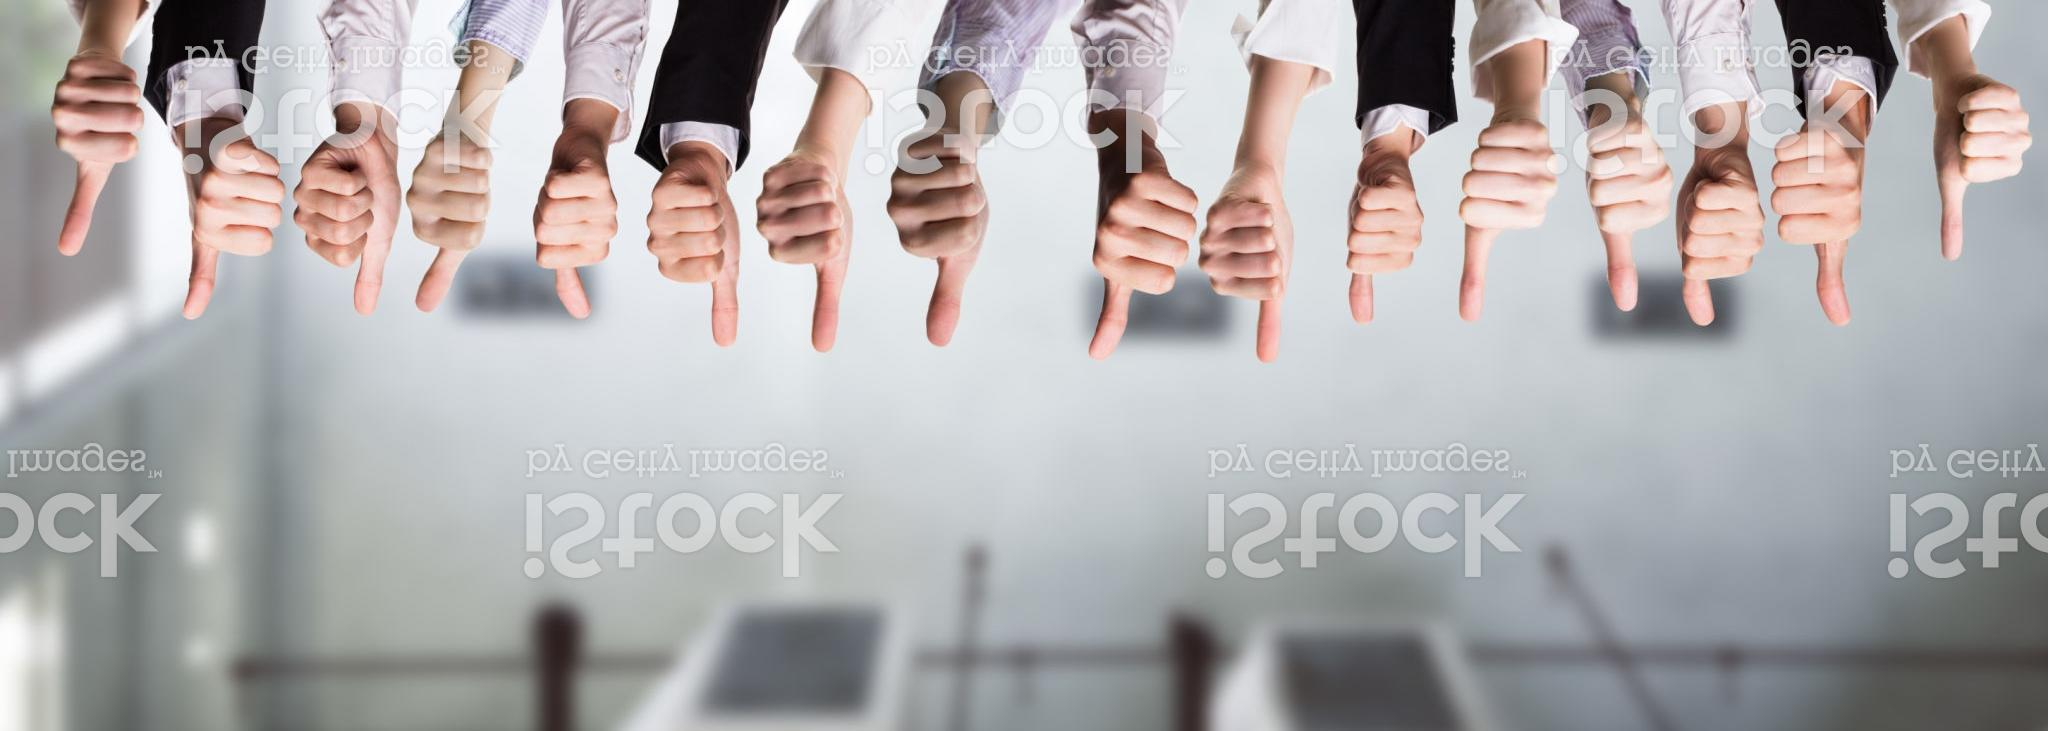thumbsdown: (886, 128, 993, 349), (1085, 161, 1202, 362), (1452, 117, 1558, 325), (751, 151, 856, 356), (1192, 166, 1298, 365), (289, 137, 402, 319), (47, 52, 146, 257), (1929, 74, 2035, 262), (1768, 125, 1865, 329), (179, 148, 287, 322), (644, 162, 743, 349), (1580, 119, 1674, 315), (404, 136, 496, 315), (1672, 151, 1766, 328), (532, 136, 620, 320), (1343, 168, 1426, 328)
